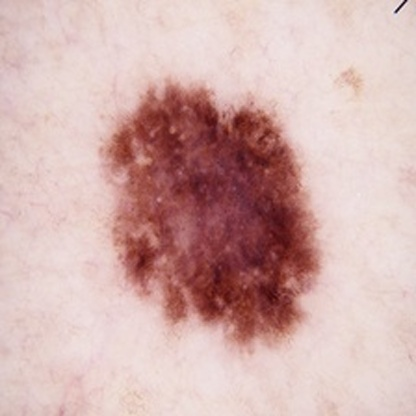benign: (118, 121, 304, 330)
